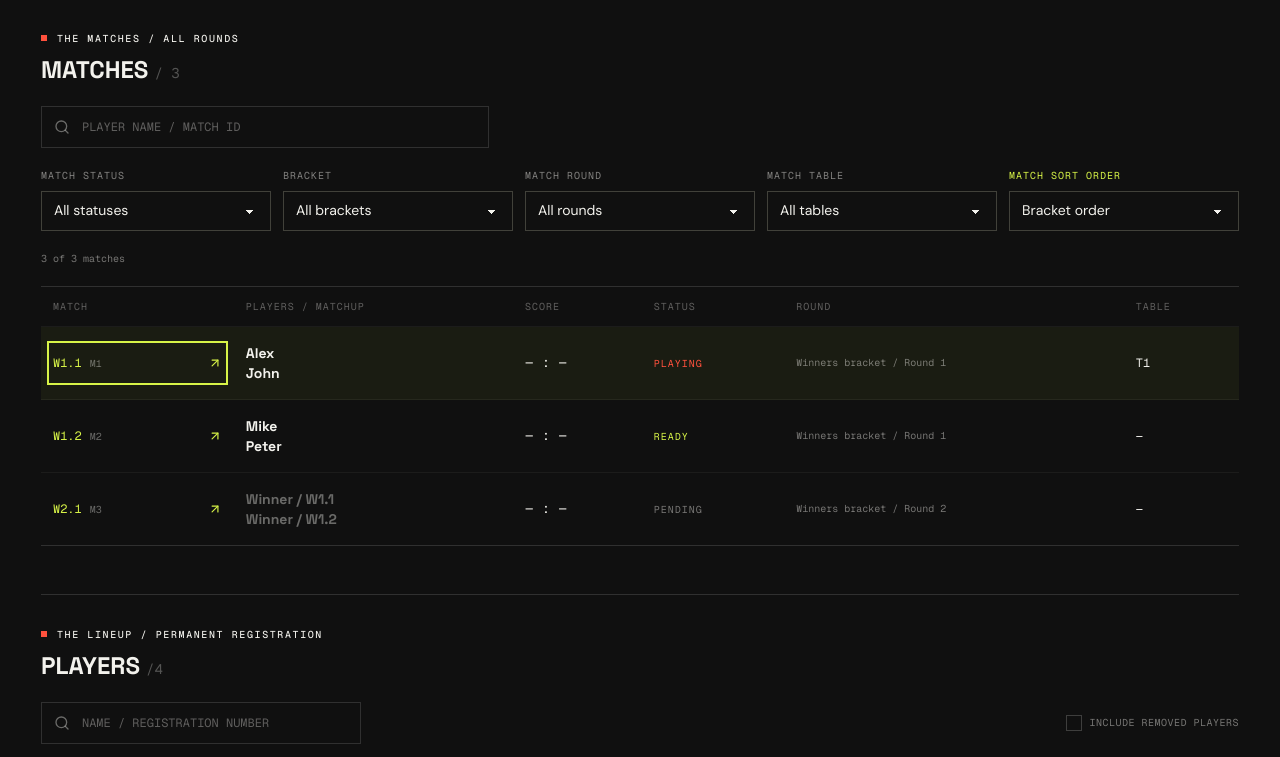
Test case: live tournament room › opens the usual match modal from the match list at 1440 px with admin=false
(page scrolled)
Press Enter
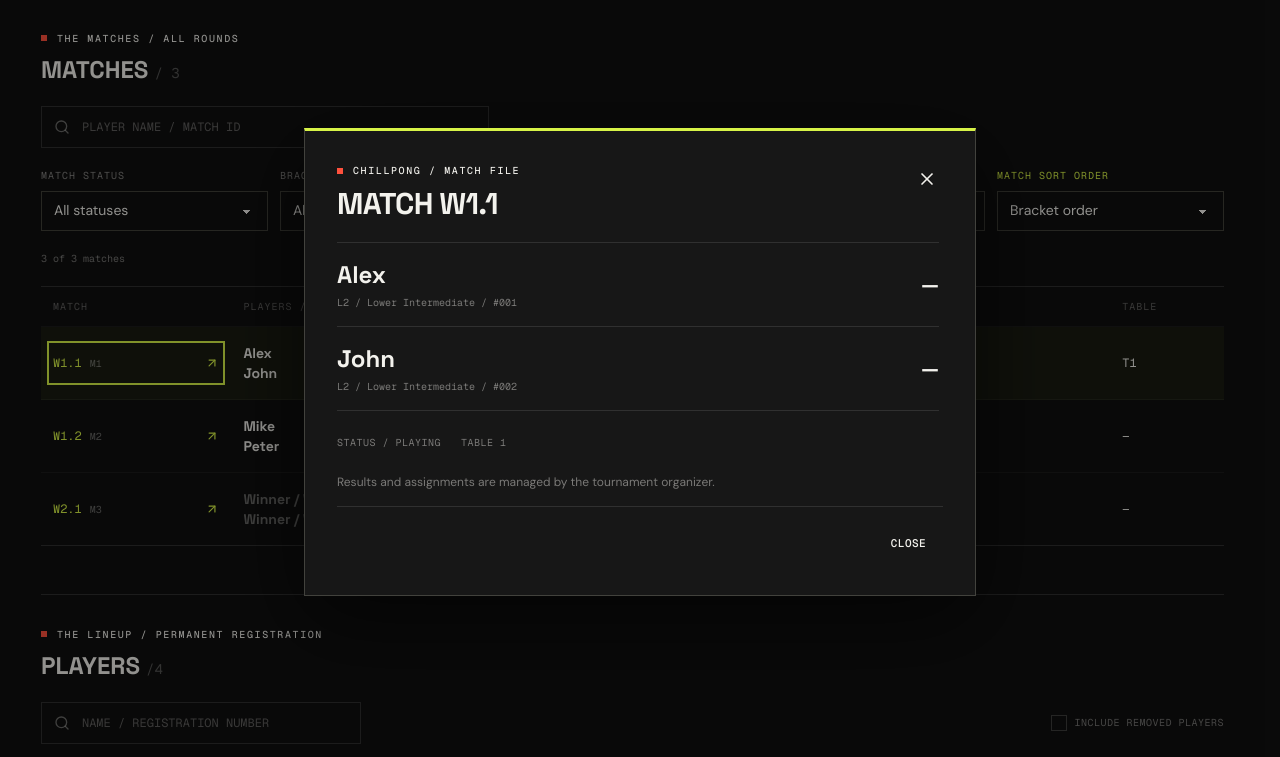
Expected: the text "Alex" is shown, [337,259,386,291]
Expected: the text "John" is shown, [337,343,395,375]
Expected: the text "Results and assignments are managed" is shown, [337,474,715,490]
Click the button "Close" at [908, 543], box [874,523,943,563]
(page scrolled)
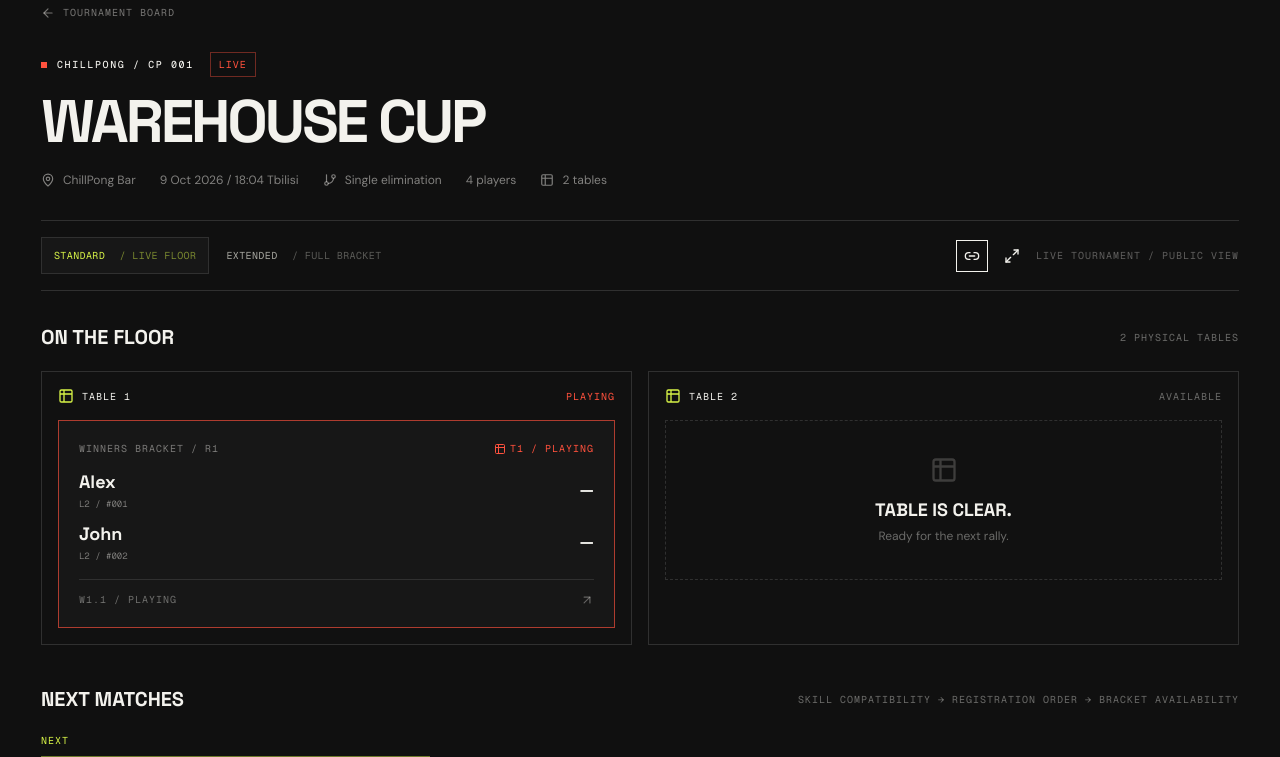
Click the button with aria-label "Extended view" at [304, 256], box [213,237,395,274]
(page scrolled)
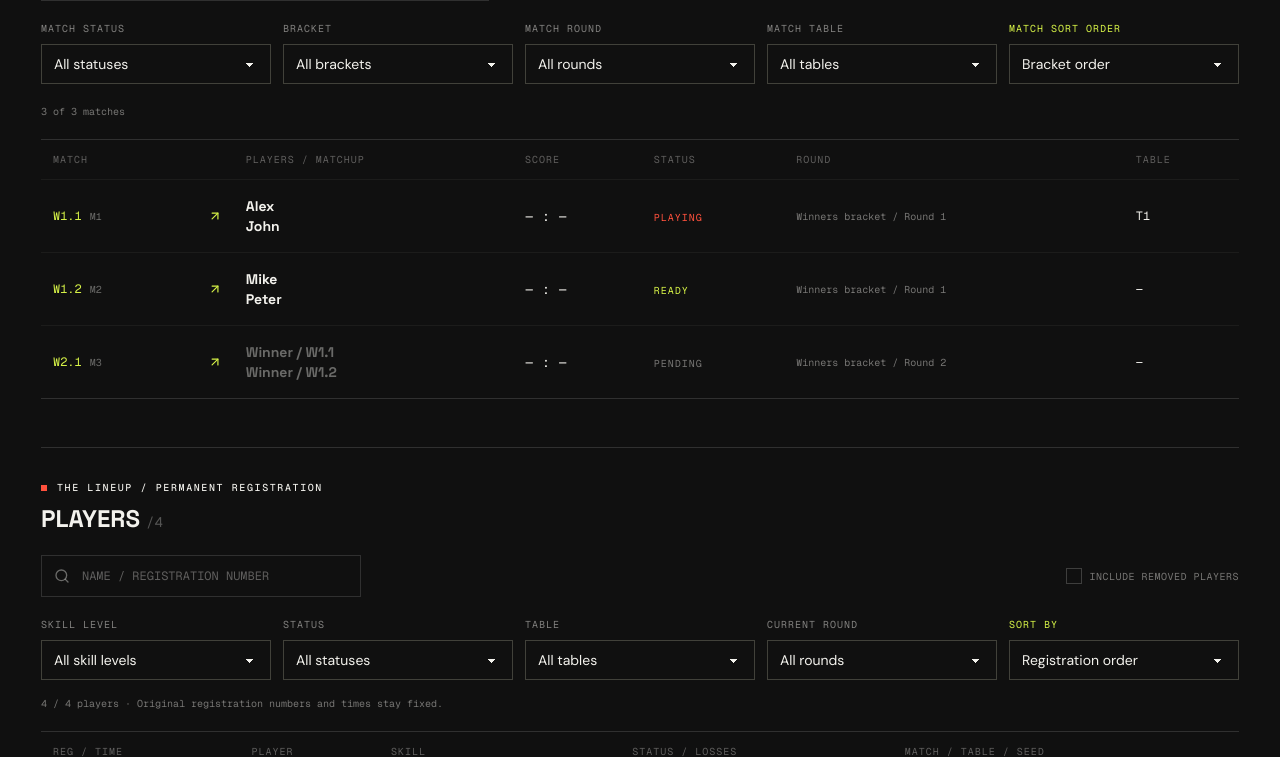
Click the row with test id "match.row.3" at [290, 352], box [41,326,1239,398]
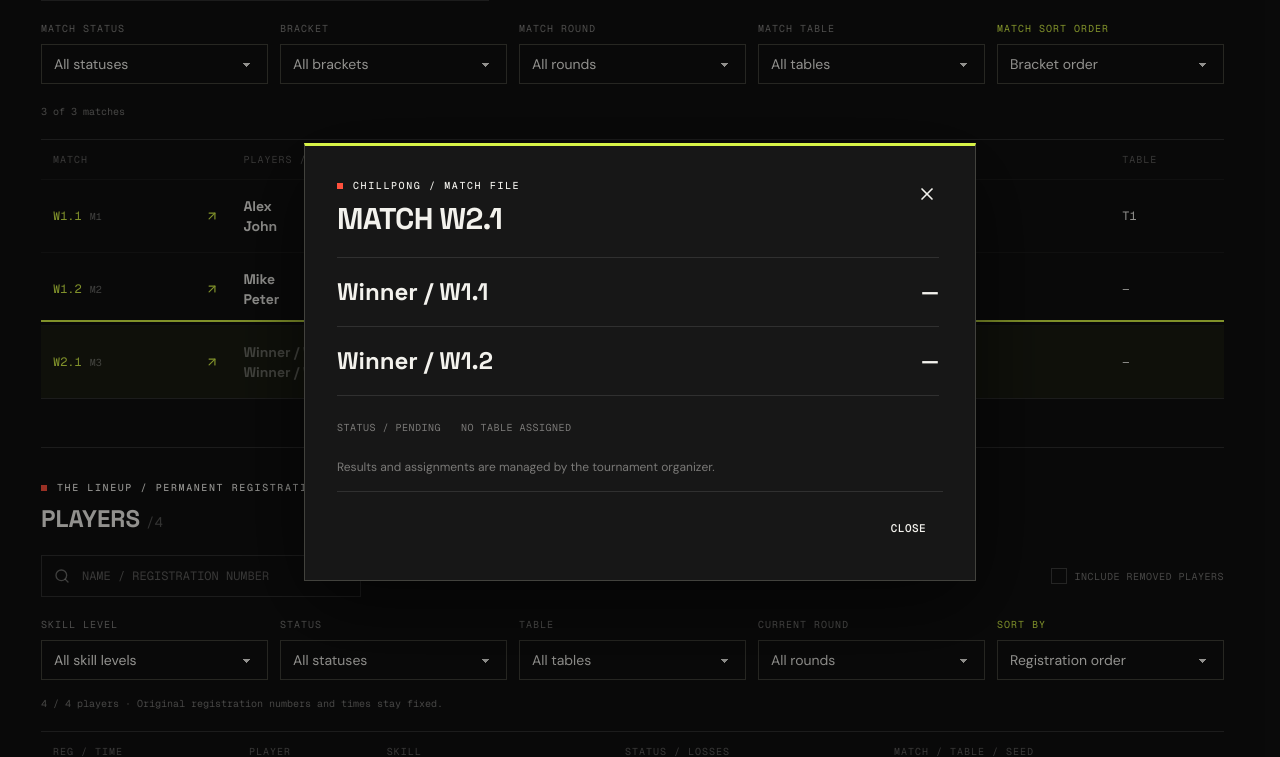
Expected: the text "Winner / W1.1" is shown, [337,276,488,308]
Expected: the text "Winner / W1.2" is shown, [337,345,493,377]
